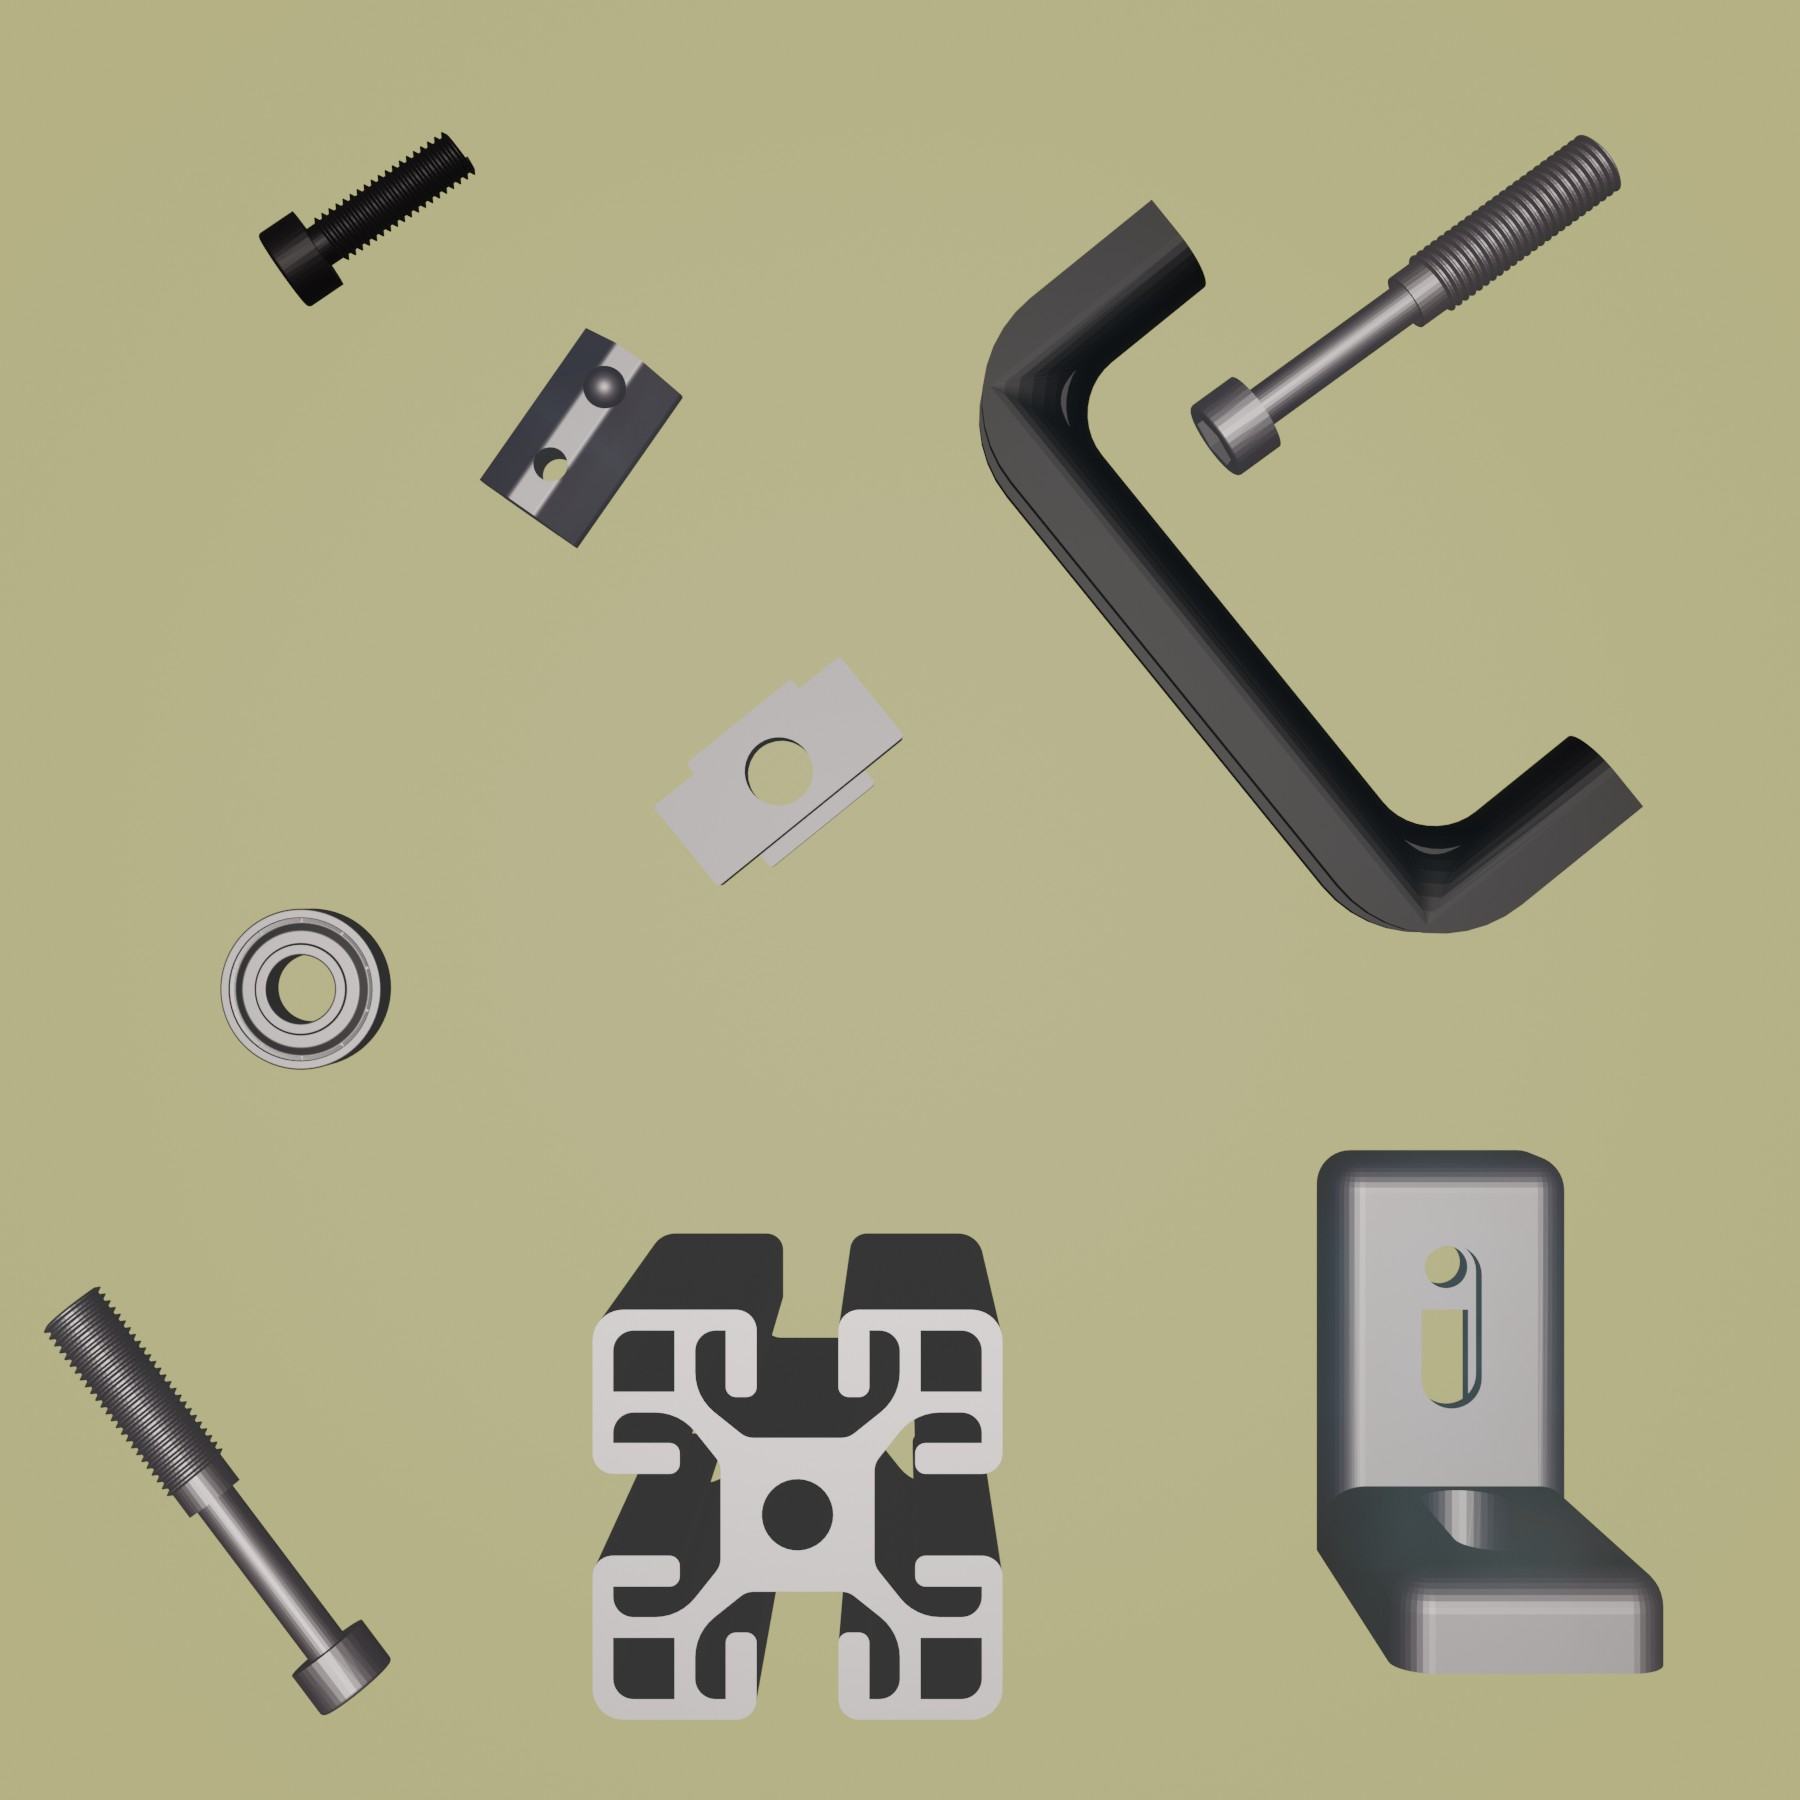Aluminium Extension: (587, 1228, 1010, 1727)
Ball Bearing: (218, 903, 392, 1071)
Multiwinkel: (1312, 1147, 1670, 1680)
Pull Handle: (976, 196, 1642, 935)
Shoulder Socket Head Cap Screw: (41, 1282, 392, 1718), (1187, 130, 1624, 478)
Socket Head Cap Screw: (255, 127, 476, 308)
T Nut Square: (651, 653, 908, 892)
T Spring Nut: (475, 326, 686, 549)
